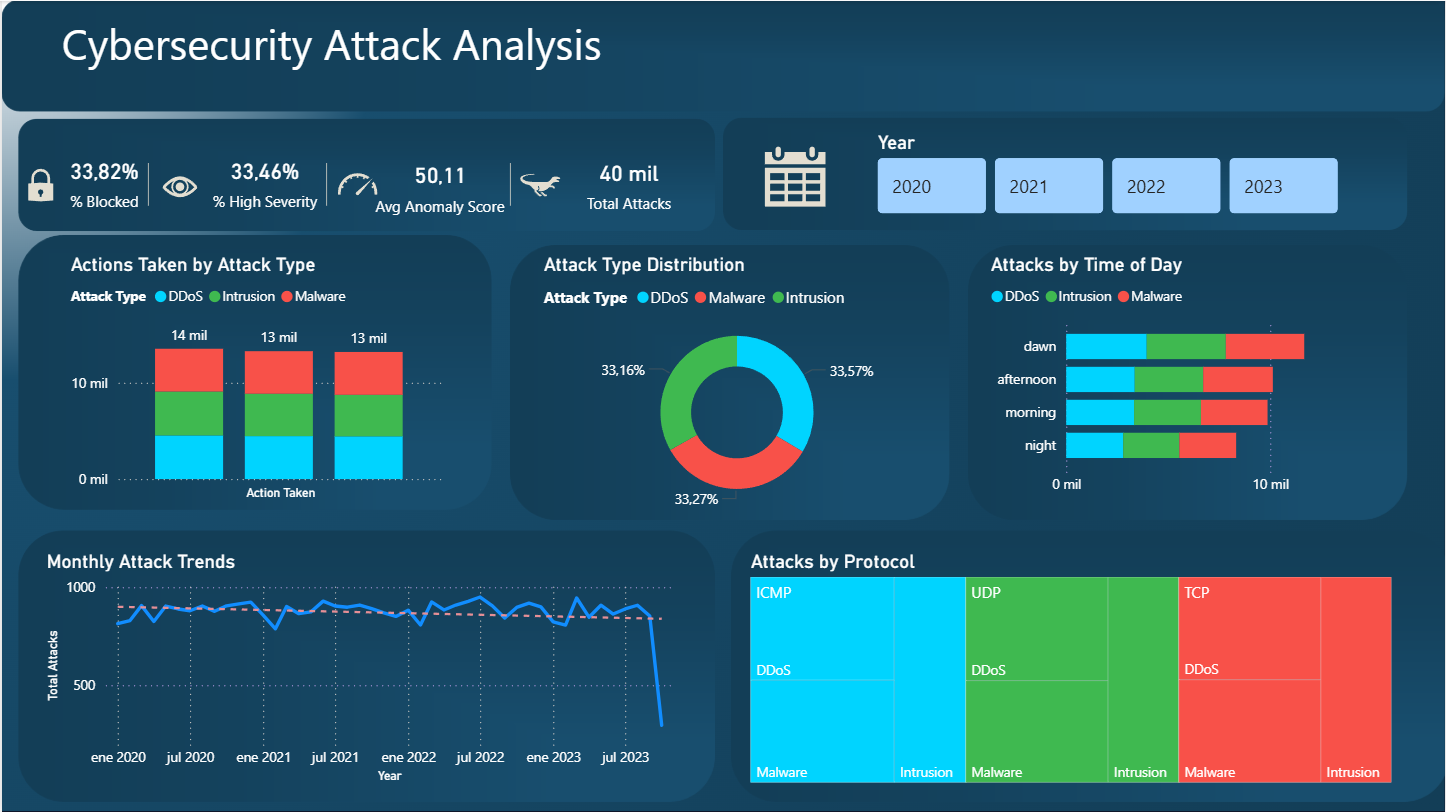

This screenshot's page, from the dashboard's own definition file:
{"tool":"powerbi","page":{"name":"Overview","canvas":[1280,720],"ordinal":0},"visuals":[{"type":"card","fields":{"Values":["Medidas.Avg Anomaly Score"]},"box":[324.5,123.3,127.7,80.7],"z":7000},{"type":"card","fields":{"Values":["Medidas.% Blocked"]},"box":[47.9,123.3,86,72.7],"z":8000},{"type":"card","fields":{"Values":["Medidas.% High Severity"]},"box":[176.5,115.3,113.5,88.7],"z":9000},{"type":"donutChart","title":"Attack Type Distribution","fields":{"Category":["cybersecurity_clean.Attack Type"],"Y":["Medidas.Total Attacks"]},"box":[475.3,223.4,352.9,235],"z":10000},{"type":"textbox","box":[48.3,7.4,953.4,65.1],"z":11000},{"type":"columnChart","title":"Actions Taken by Attack Type","fields":{"Category":["cybersecurity_clean.Action Taken"],"Series":["cybersecurity_clean.Attack Type"],"Y":["Medidas.Total Attacks"]},"box":[55.9,223.4,339.6,223.4],"z":12000},{"type":"card","fields":{"Values":["Medidas.Total Attacks"]},"box":[501.9,118.8,108.2,85.1],"z":13000},{"type":"lineChart","title":"Monthly Attack Trends","fields":{"Category":["cybersecurity_clean.Date.Variación.Jerarquía de fechas.Año","cybersecurity_clean.Date.Variación.Jerarquía de fechas.Mes"],"Y":["Medidas.Total Attacks"]},"box":[34.6,486.8,568.4,211],"z":14000},{"type":"advancedSlicerVisual","fields":{"Values":["cybersecurity_clean.Year"]},"box":[771.4,115.3,418.5,78.9],"z":15000},{"type":"treemap","title":"Attacks by Protocol","fields":{"Details":["cybersecurity_clean.Attack Type"],"Group":["cybersecurity_clean.Protocol"],"Values":["Medidas.Total Attacks"]},"box":[658.8,486.8,578.1,211],"z":16000},{"type":"barChart","title":"Attacks by Time of Day","fields":{"Category":["cybersecurity_clean.time_of_day"],"Series":["cybersecurity_clean.Attack Type"],"Y":["Medidas.Total Attacks"]},"box":[871.6,223.4,365.3,223.4],"z":17000}]}

Visuals, with their boxes in screenshot pixels (x1, y1, x2, y2), scaled from the page's 1280x720 canvas onto the 1446x812 screenshot:
card - Medidas.Avg Anomaly Score: 367 139 511 230
card - Medidas.% Blocked: 54 139 151 221
card - Medidas.% High Severity: 199 130 328 230
"Attack Type Distribution" donutChart: 537 252 936 517
textbox: 55 8 1132 82
"Actions Taken by Attack Type" columnChart: 63 252 447 504
card - Medidas.Total Attacks: 567 134 689 230
"Monthly Attack Trends" lineChart: 39 549 681 787
advancedSlicerVisual - cybersecurity_clean.Year: 871 130 1344 219
"Attacks by Protocol" treemap: 744 549 1397 787
"Attacks by Time of Day" barChart: 985 252 1397 504
